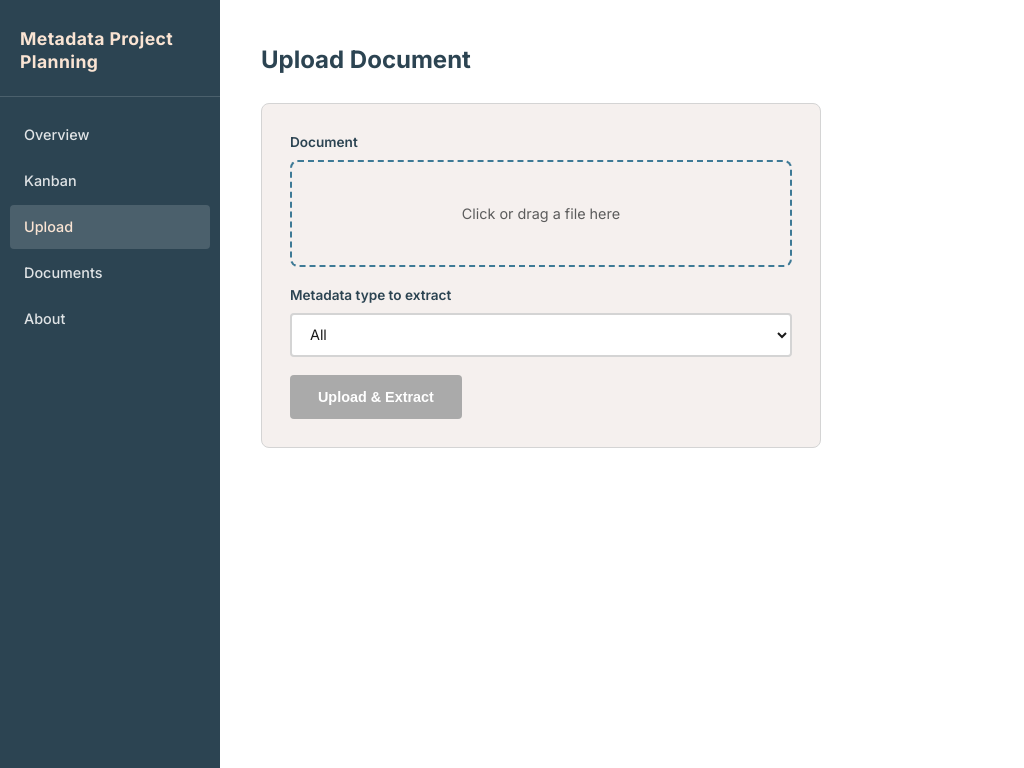
Test: App Integration Tests › navigates to About page
Click the link with aria-label "Learn about this tool" at (45, 319), box [24,310,65,327]
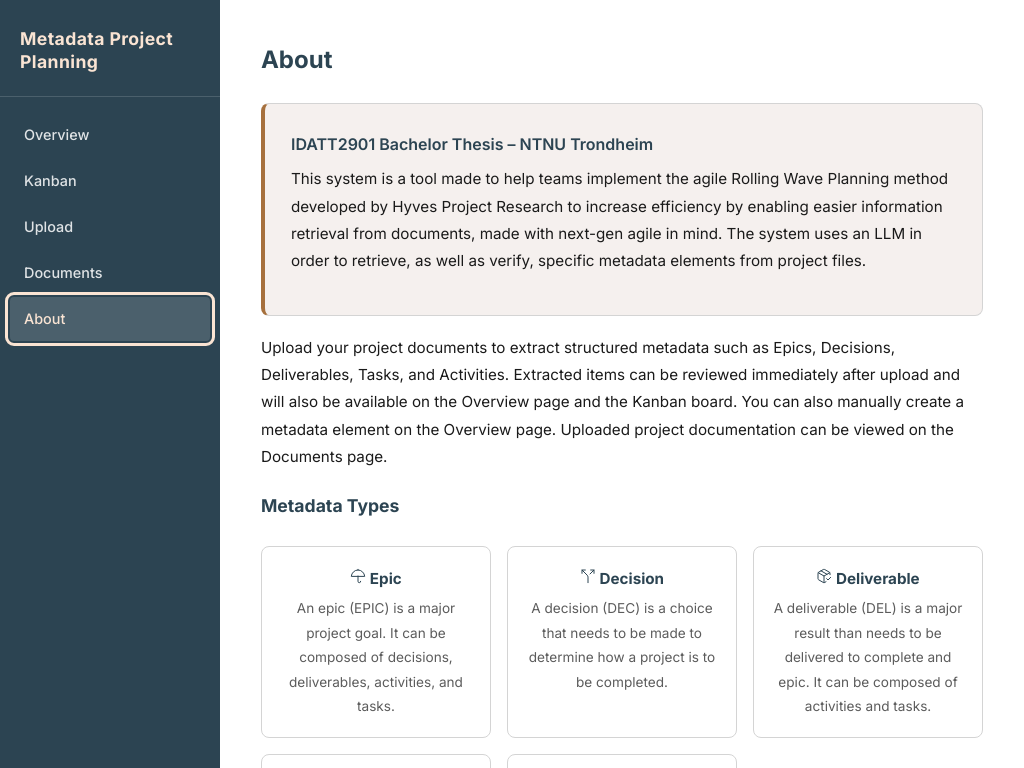
Now the heading "About" is shown, box [261,45,332,74]
